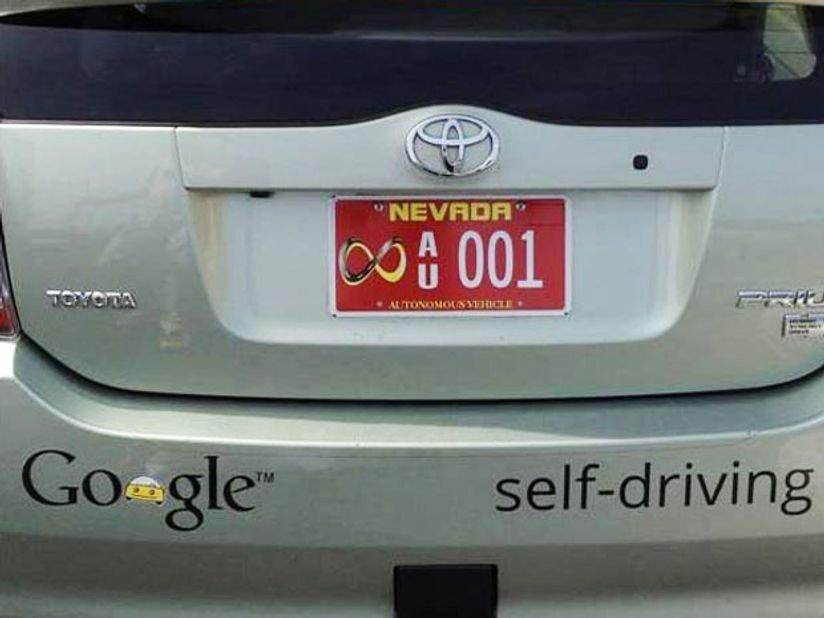Liscence Plate: (336, 195, 567, 317)
